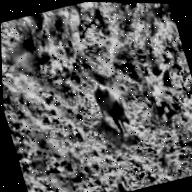boar: (82, 72, 138, 136)
